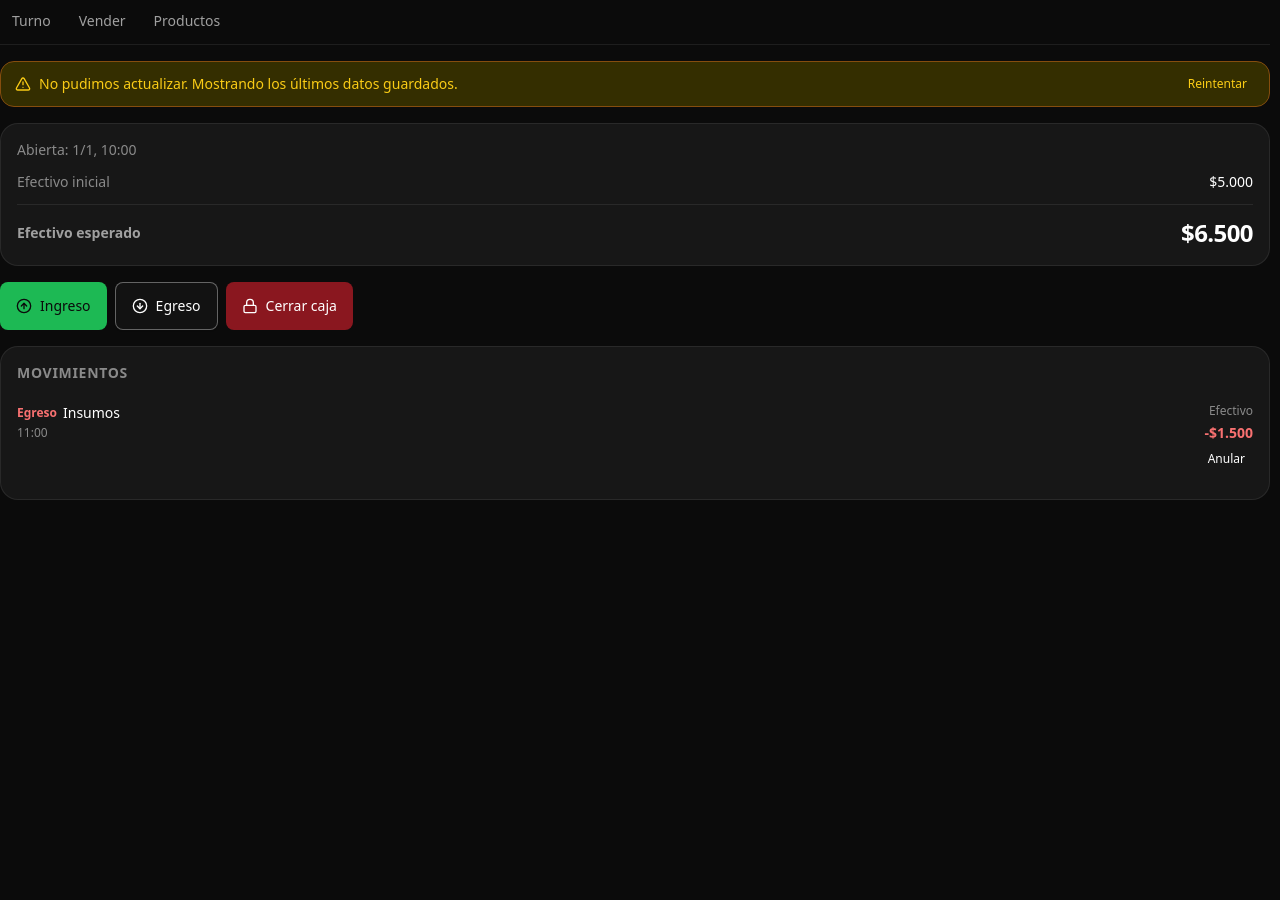
Test case: CashPage — background refetch failure with cached data › keeps the open view, and an open dialog with typed input, mounted instead of the full-screen error
The image size is (1280, 900).
Check: the text "Efectivo esperado" is shown, box 17,223 -> 141,243
Check: the text "No pudimos actualizar. Mostrando los últimos datos guardados." is shown, box 15,74 -> 458,94
Click the button "Ingreso" at (53, 306), box 0,282 -> 107,330
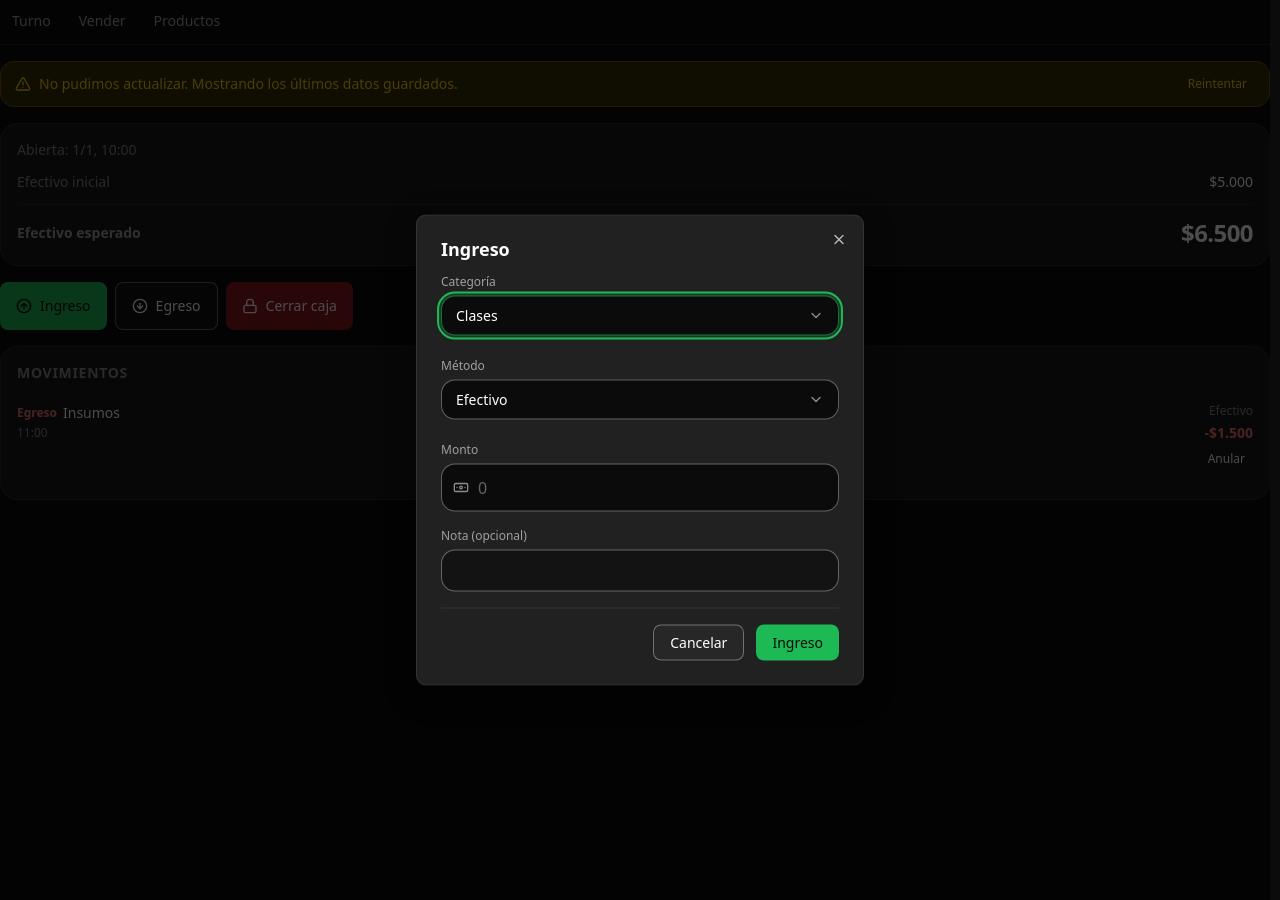
Type "1234" into the field labelled "Monto" at (640, 488), box 441,464 -> 839,512
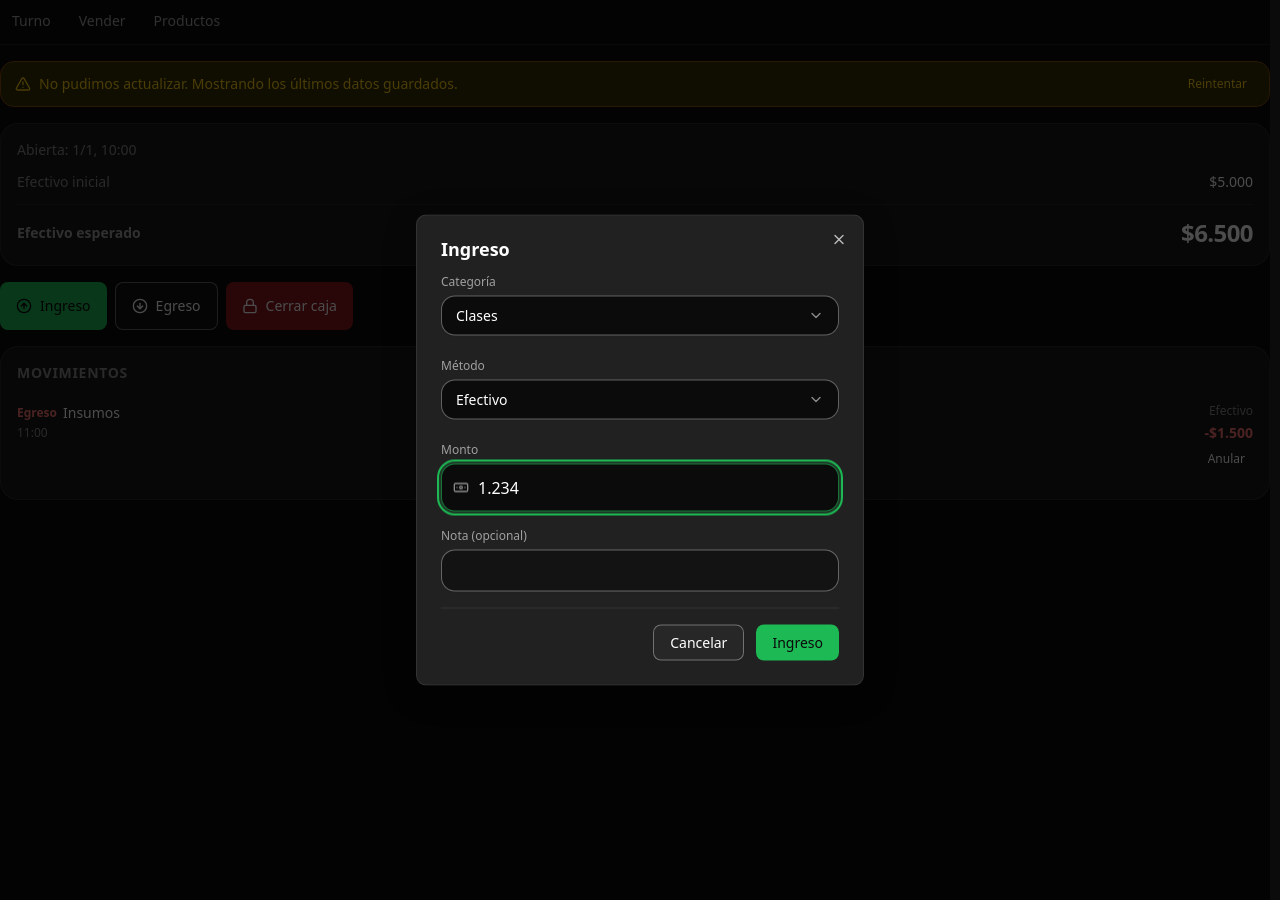
Check: the dialog is shown, box 416,214 -> 864,686
Check: the field labelled "Monto" holds "1.234", box 441,464 -> 839,512
